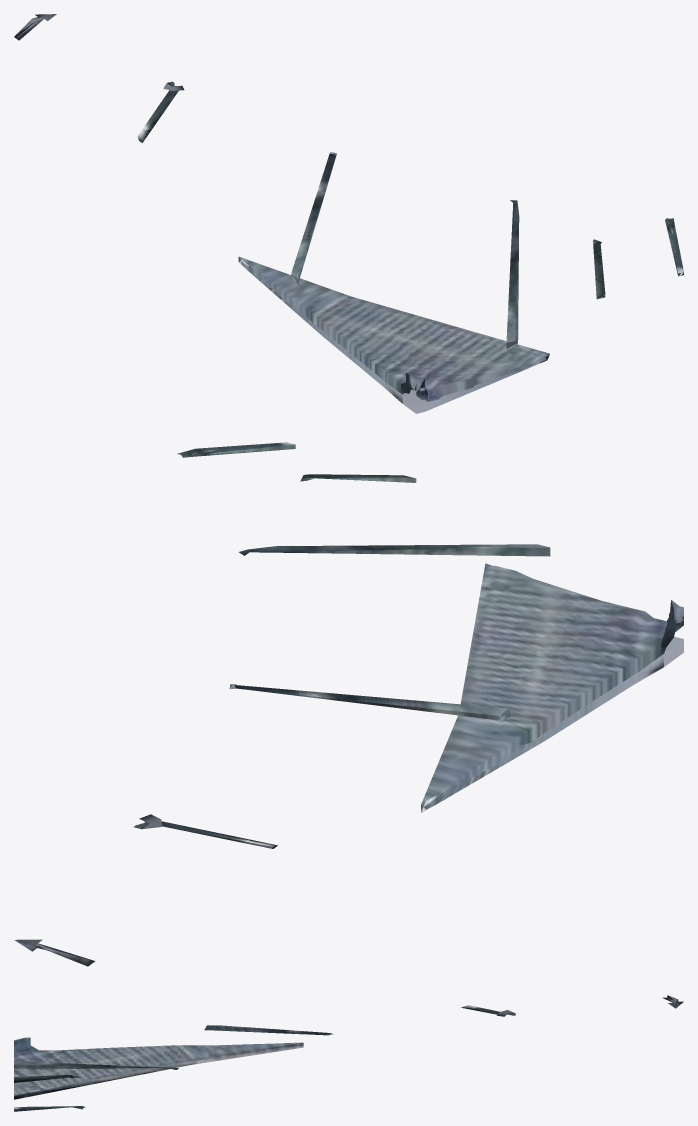
The picture shows the model from 3 angles, top to bottom: view 1: azimuth 30°, elevation 25°; view 2: azimuth 150°, elevation 25°; view 3: azimuth 270°, elevation 25°; orthographic projection. The views are drawn at different scales.
Parts seen in each view (by area): view 1: 30436272704370427517_0; view 2: 30436272704370427517_0; view 3: 30436272704370427517_0.
Boxes of the visible parts, bbox=[...] form: 30436272704370427517_0: bbox=[14, 14, 683, 413]; 30436272704370427517_0: bbox=[14, 442, 683, 966]; 30436272704370427517_0: bbox=[14, 995, 683, 1111].
Bounding box in the file's own units: 15.81 × 4.63 × 37.48.
Materials: 1 (1 with a texture image).
